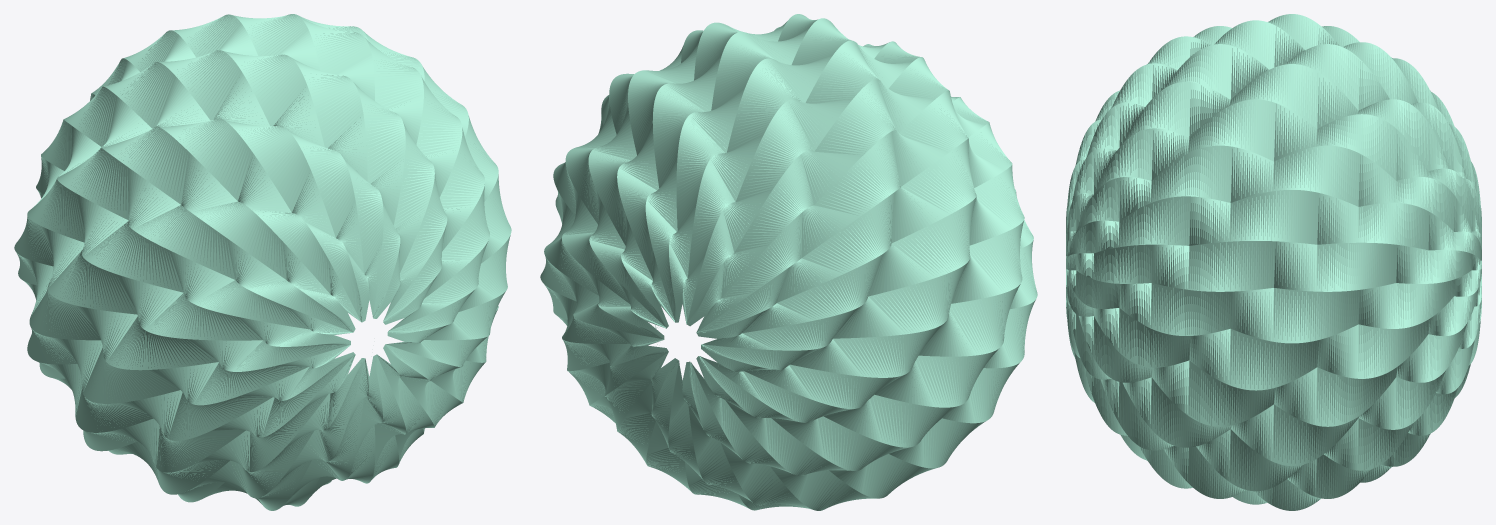
Rendered from BOS_ViralTempest.glb.
3 renders of one model, left to right at view 1: azimuth 30°, elevation 25°; view 2: azimuth 150°, elevation 25°; view 3: azimuth 270°, elevation 25°, orthographic. The views are drawn at different scales.
Parts seen in each view (by area): view 1: MathShape_0; view 2: MathShape_0; view 3: MathShape_0.
Part boxes in pixels (left/top/right/bottom): MathShape_0: left=14, top=14, right=511, bottom=510; MathShape_0: left=540, top=14, right=1037, bottom=510; MathShape_0: left=1066, top=14, right=1481, bottom=510.
Size of the model in its own units: 2.38 by 2.34 by 2.
